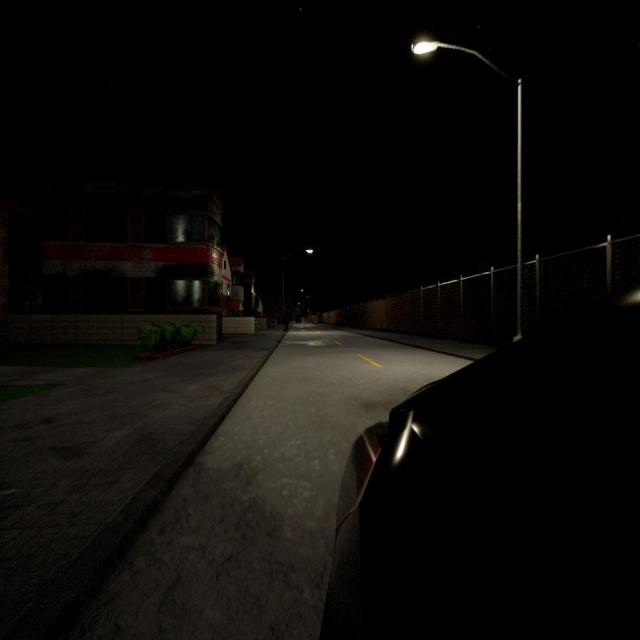Pedestrian: (281, 308, 292, 334)
Vehicle: (321, 290, 640, 640)
